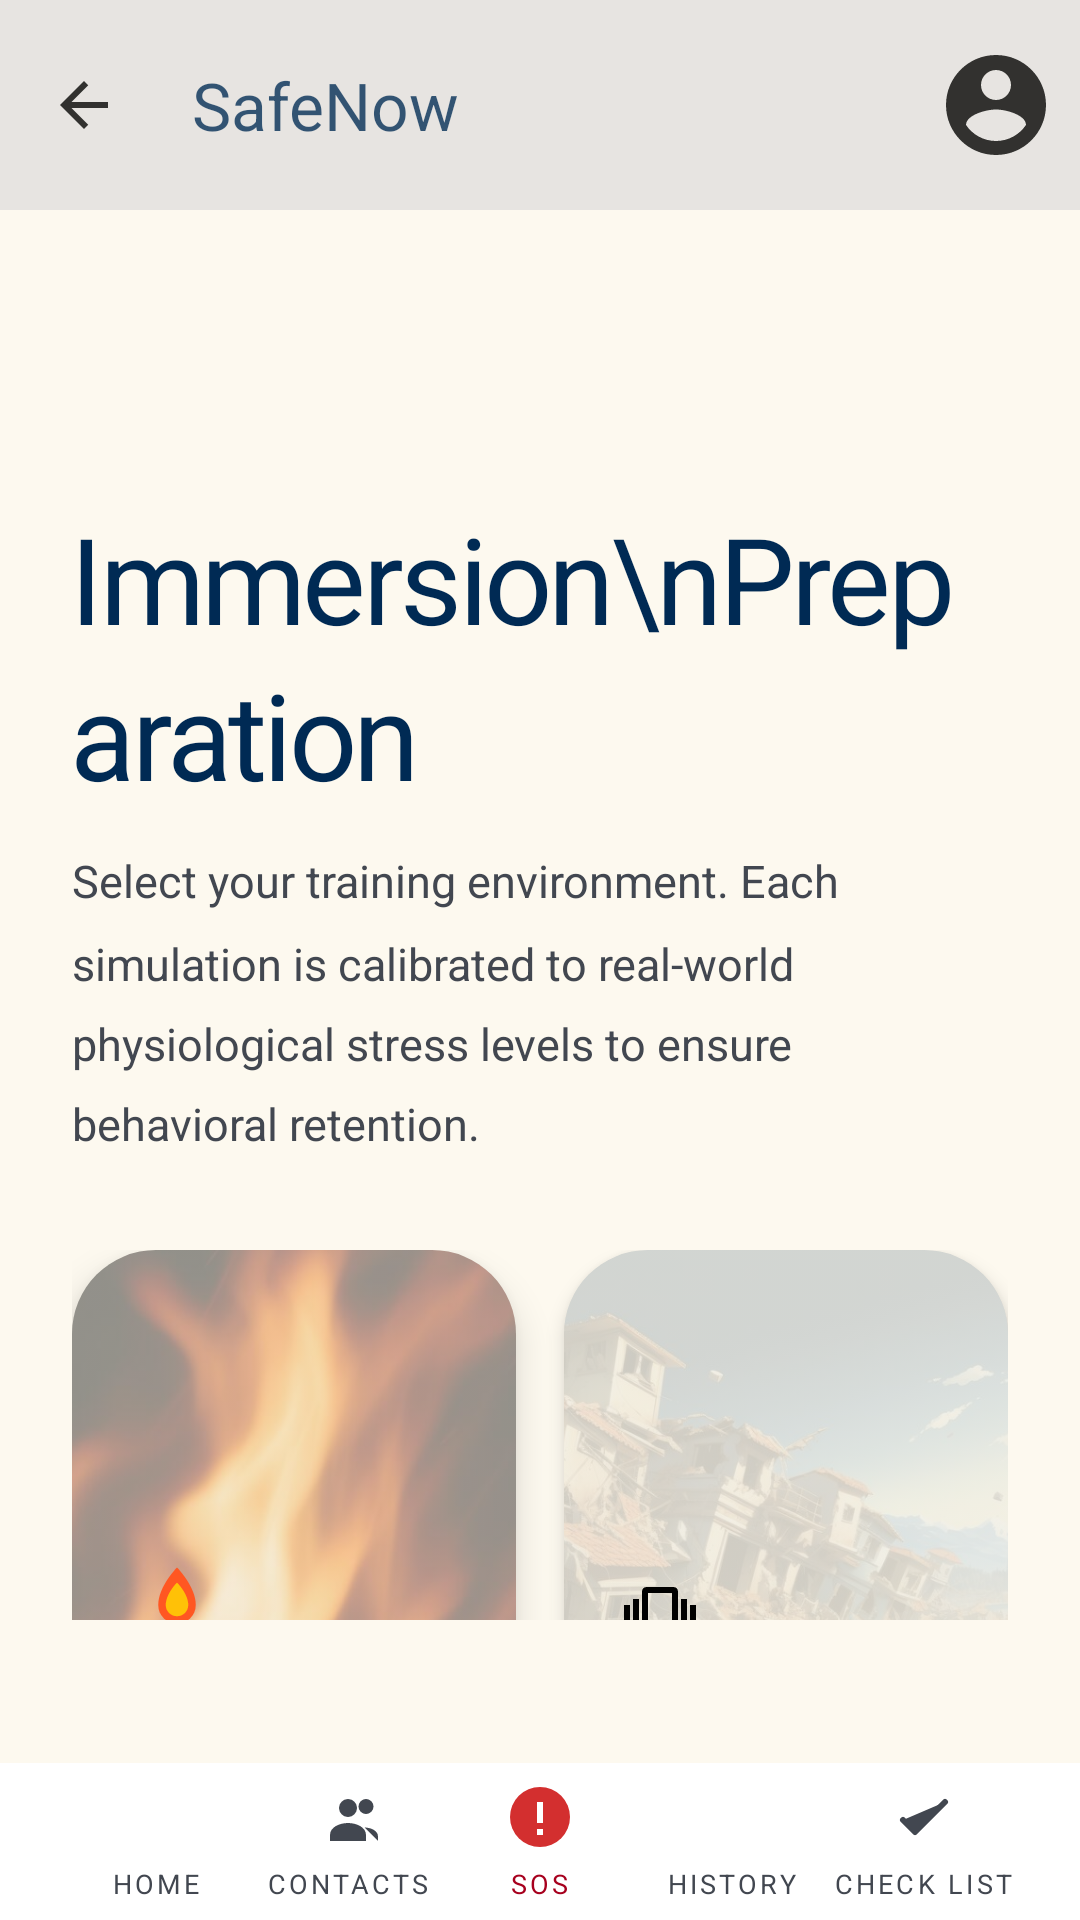

Point at icon controls on the screen. Image size 1080x1920, points as (x=x, y=y).
Back: (x=84, y=105)
Profile: (x=996, y=105)
